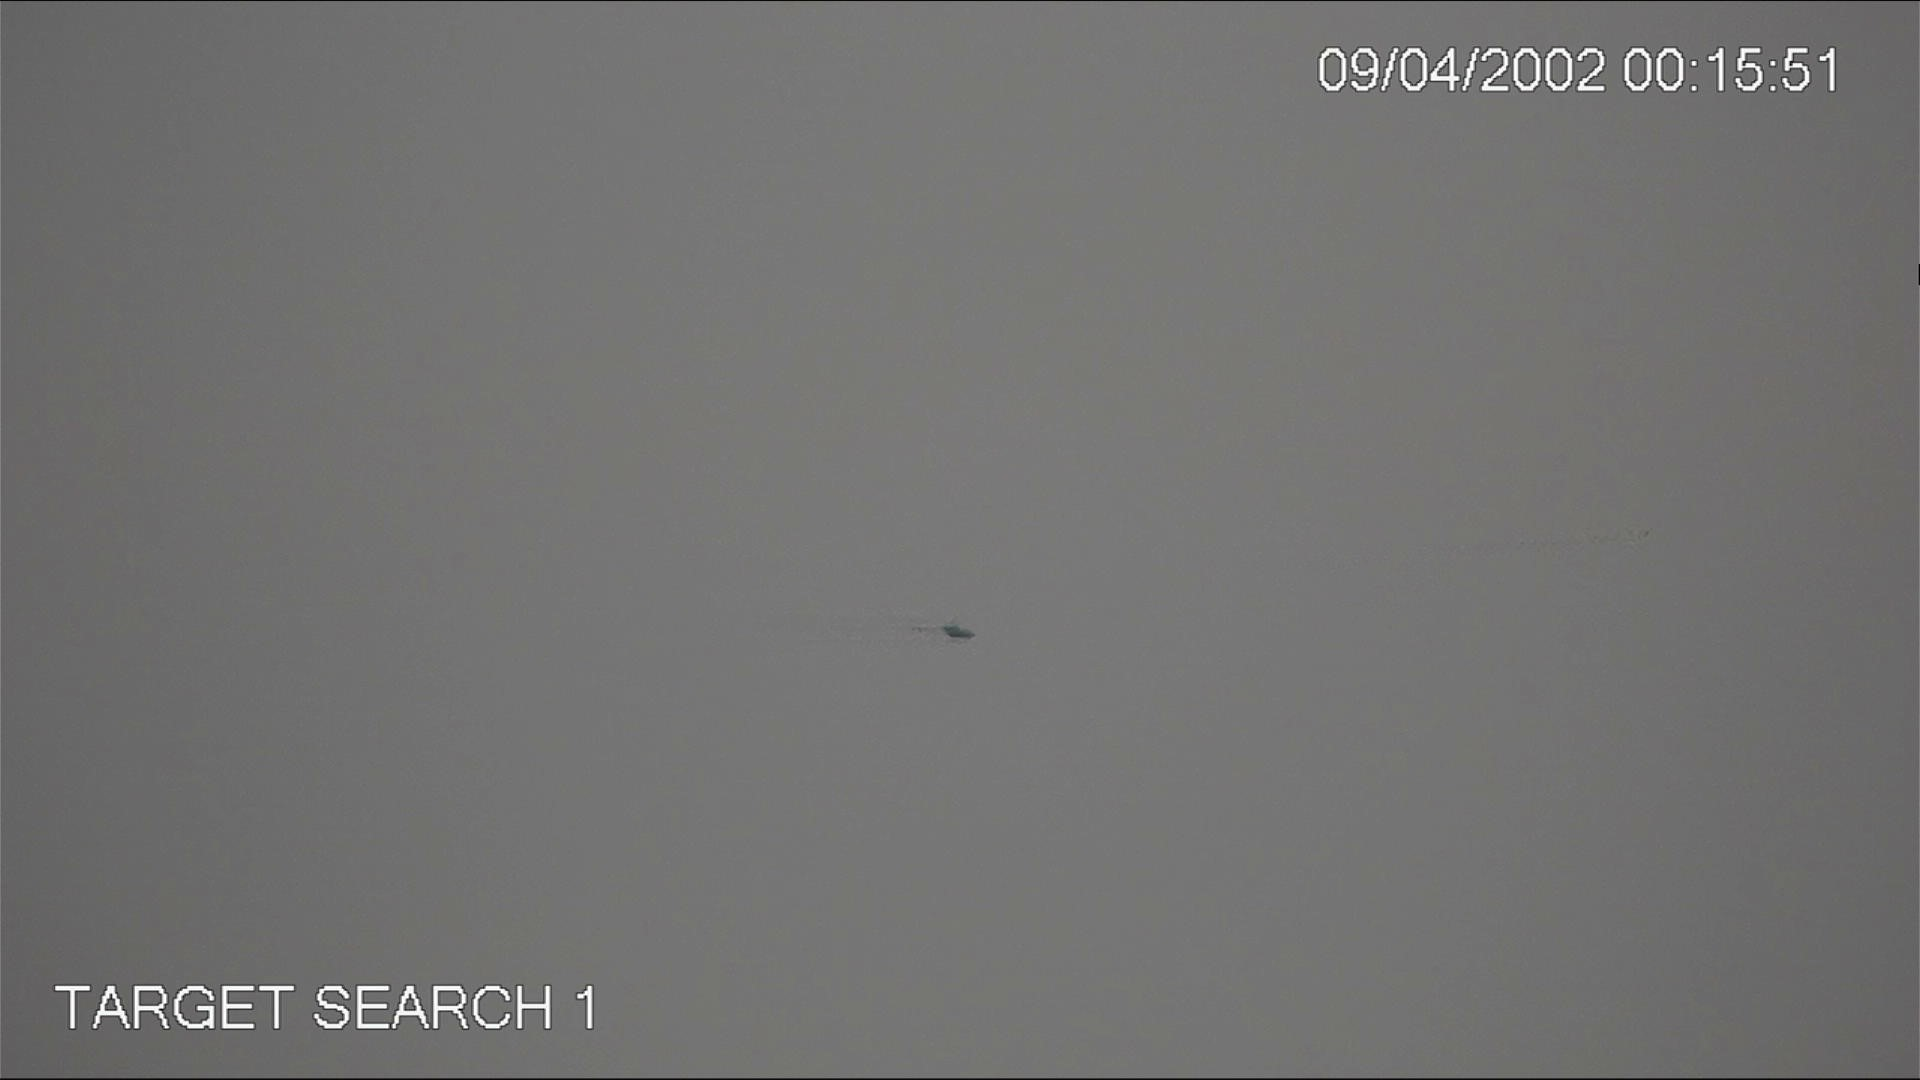SU_30: (909, 618, 975, 644)
